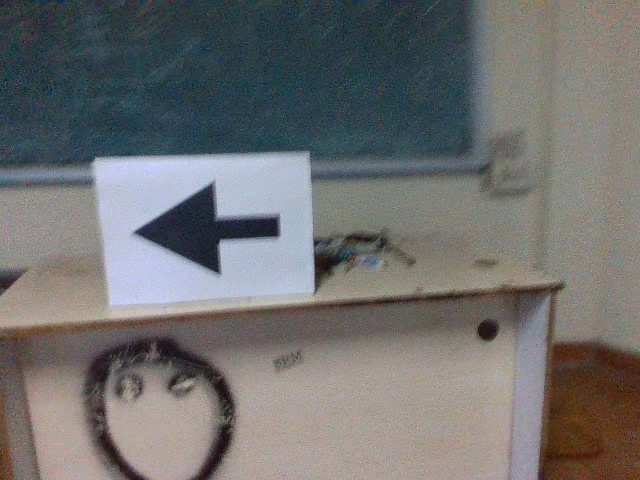Left: (124, 173, 284, 283)
